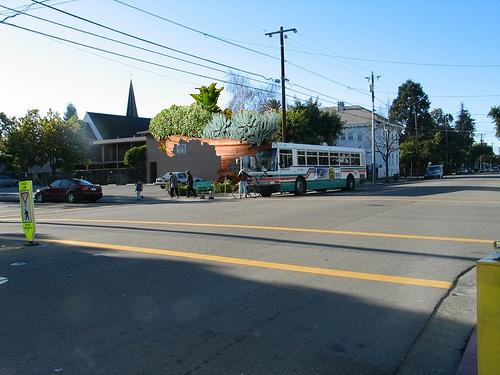tampered: (150, 84, 282, 185)
